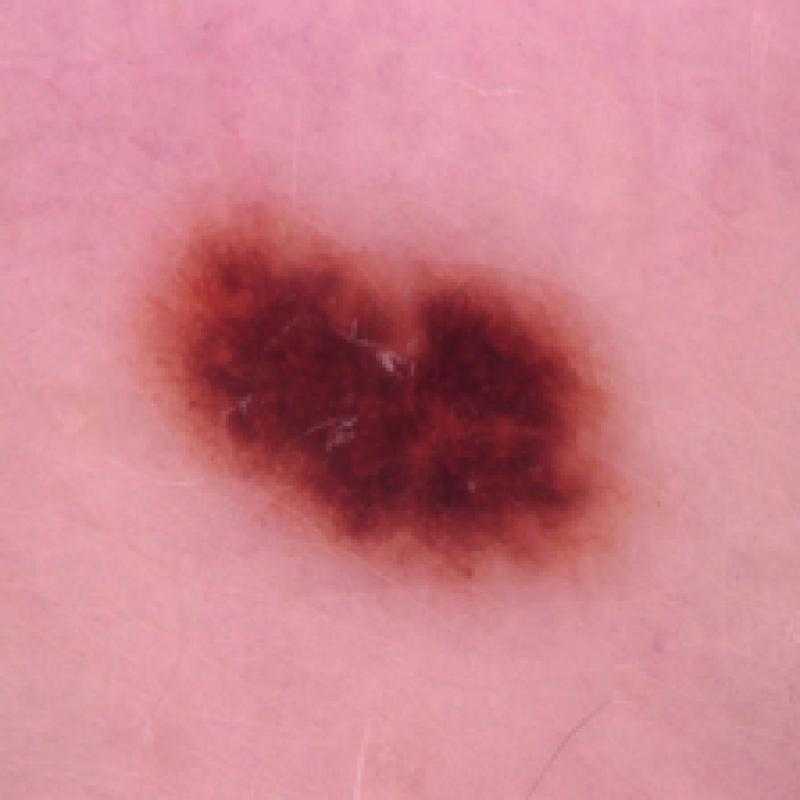benign: (158, 177, 650, 609)
